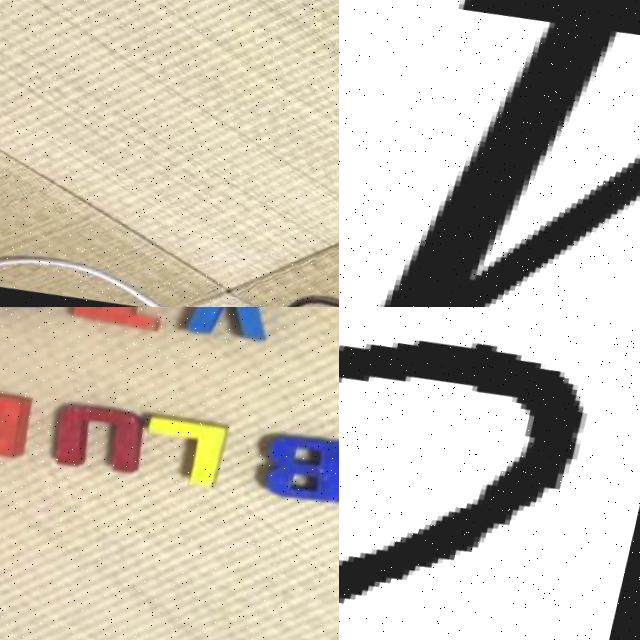B: (254, 429, 339, 511)
E: (0, 386, 37, 461)
G: (339, 307, 632, 640)
I: (65, 307, 172, 336)
L: (140, 414, 227, 491)
U: (47, 400, 147, 479)
V: (176, 307, 280, 345)
